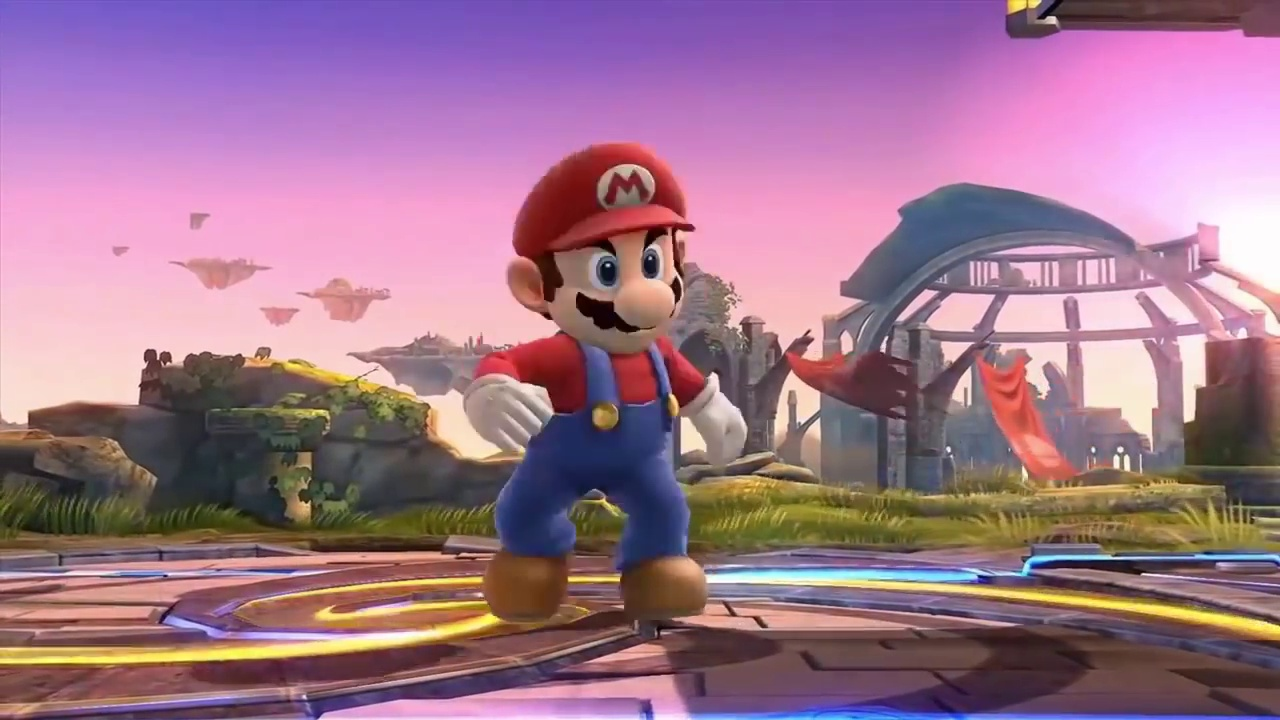Mario: (463, 141, 746, 620)
